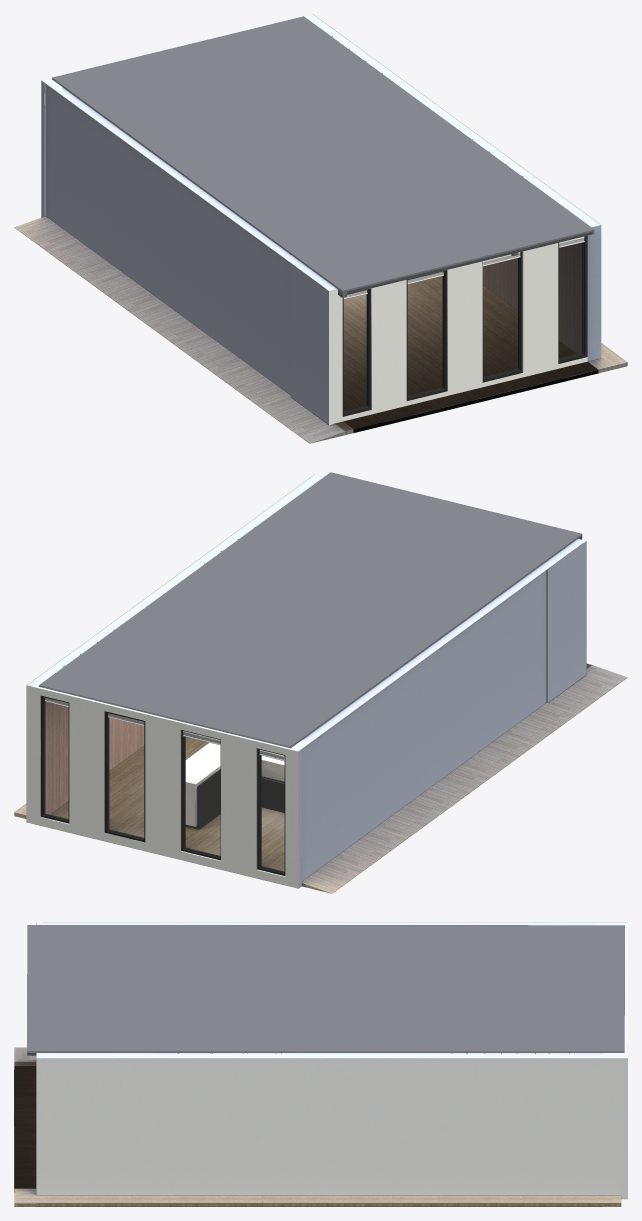
File: office_baked2.glb
The picture shows the model from 3 angles, top to bottom: view 1: azimuth 30°, elevation 25°; view 2: azimuth 150°, elevation 25°; view 3: azimuth 270°, elevation 25°; orthographic projection. The views are drawn at different scales.
Visible parts, largest first — view 1: Group39.001, Group9.001, Model.001, Group7.001; view 2: Group39.001, Group9.001, Group7.001, Model.001, Group12.001; view 3: Group9.001, Group39.001, Model.001.
Part boxes in pixels (x1,y1,x2,y2): Group39.001: (52, 16, 594, 295); Group9.001: (41, 14, 601, 430); Model.001: (14, 216, 627, 443); Group7.001: (329, 236, 587, 425); Group39.001: (39, 472, 582, 748); Group9.001: (27, 474, 586, 888); Group7.001: (26, 685, 298, 888); Model.001: (14, 663, 627, 893); Group12.001: (185, 742, 284, 829); Group9.001: (14, 922, 627, 1199); Group39.001: (27, 925, 624, 1055); Model.001: (14, 1047, 621, 1206).
Bounding box in the file's own units: 9.01 × 3.79 × 14.65.
Materials: 30 (8 with a texture image).
